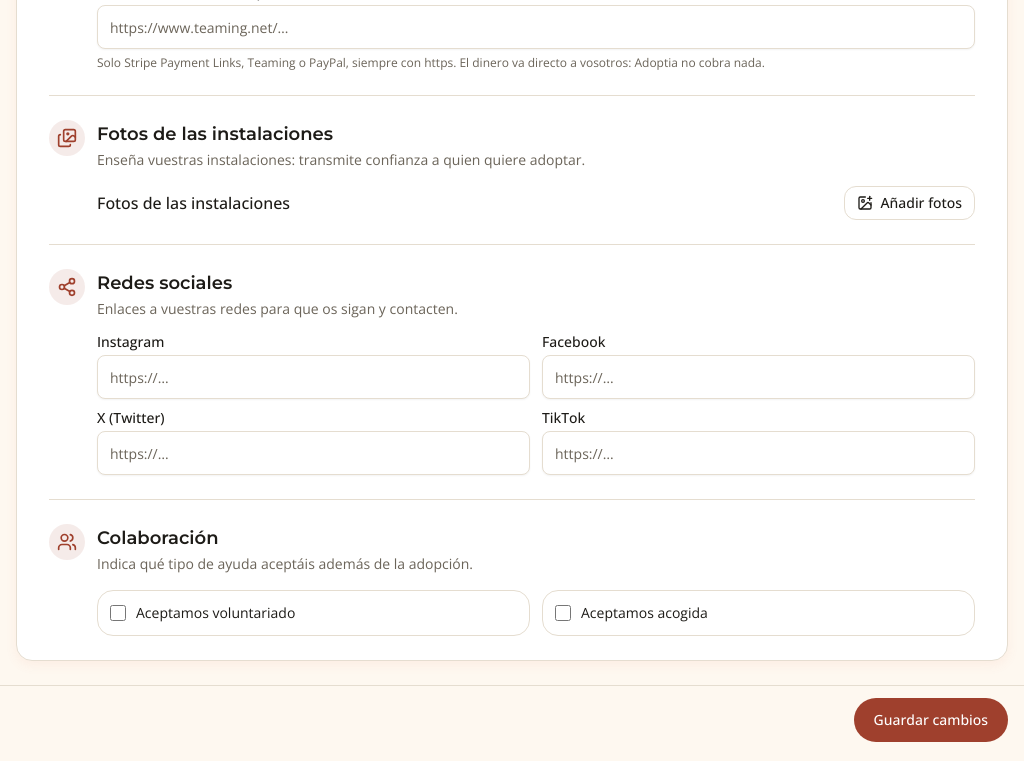
Test: PerfilEditor › rechaza una red social con URL inválida
(page scrolled)
In the field labelled "Instagram": (314, 377) [97, 355, 530, 399], type "no-es-url"
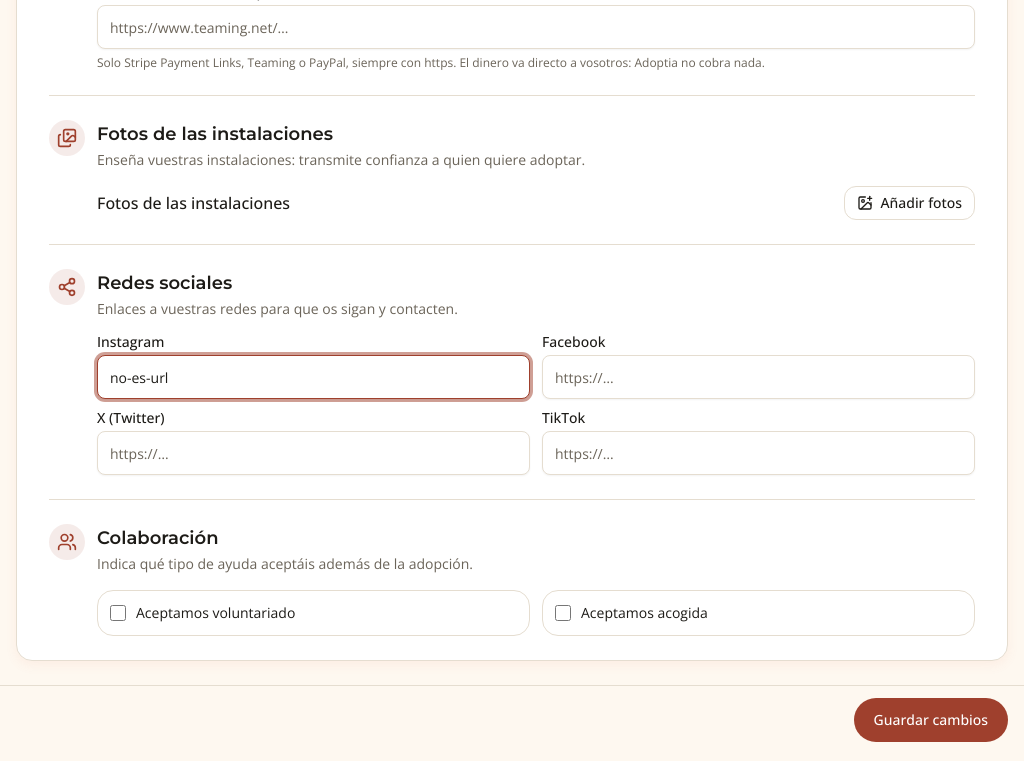
Click the button "Guardar cambios": (931, 720) [854, 698, 1008, 742]
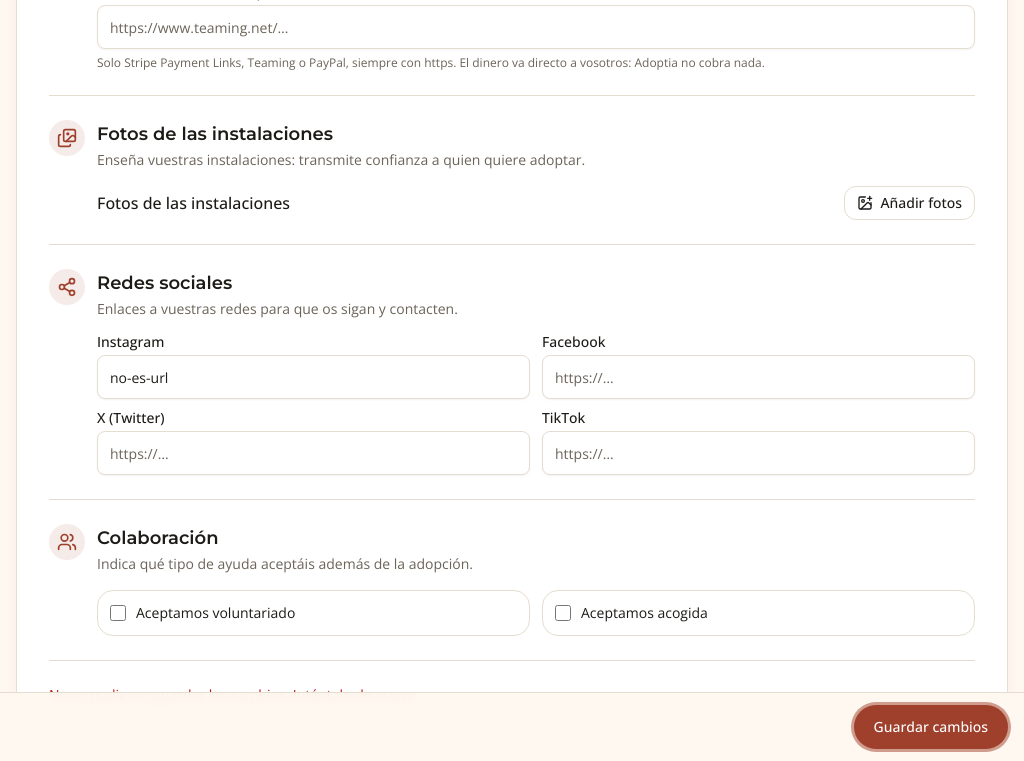
Check: the text "No se pudieron guardar los cambios. Inténtalo de nuevo." is shown, box [49, 685, 419, 704]
